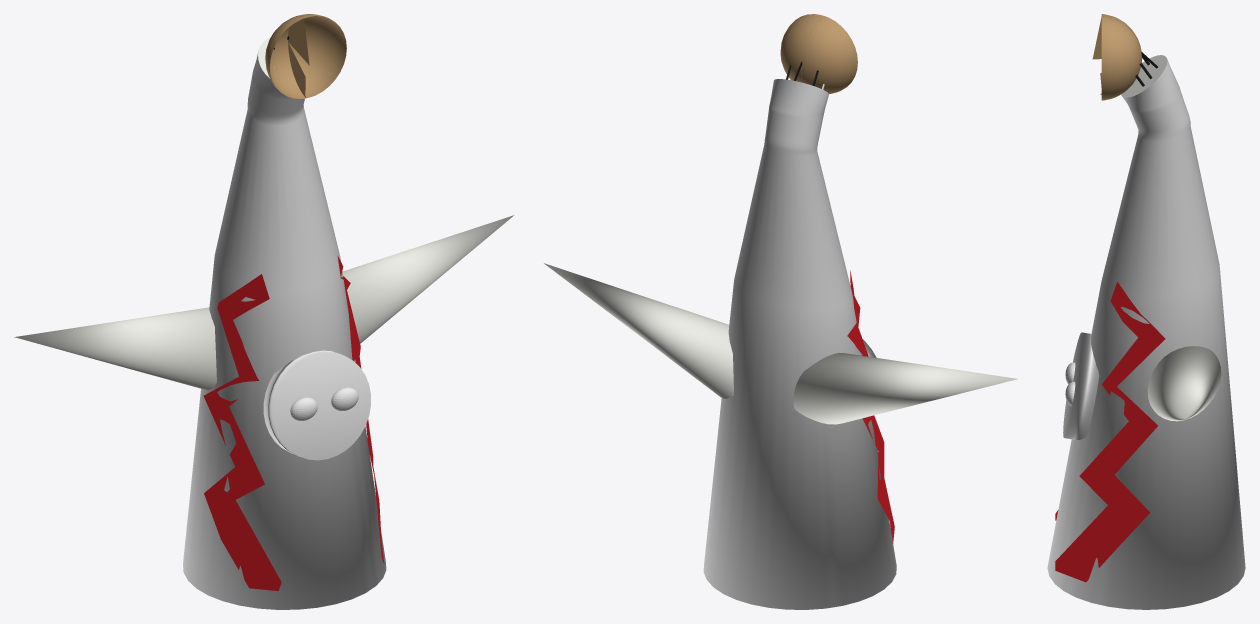
Rendered from 太陽の塔2.fbx.
The picture shows the model from 3 angles, left to right: view 1: azimuth 30°, elevation 25°; view 2: azimuth 150°, elevation 25°; view 3: azimuth 270°, elevation 25°; orthographic projection. The views are drawn at different scales.
Visible parts, largest first — view 1: 円錐.002, 円錐.001, 円柱, 平面.002, 円錐, 円.001, 平面.001; view 2: 円錐.002, 円錐.001, 円錐, 円.001, 平面.002; view 3: 円錐.002, 平面.001, 円錐, 円.001, 円柱, 円錐.003.
Part boxes in pixels (<box>): 円錐.002: <box>183,52,386,609</box>; 円錐.001: <box>14,307,216,390</box>; 円柱: <box>263,350,370,460</box>; 平面.002: <box>203,274,281,590</box>; 円錐: <box>342,215,514,343</box>; 円.001: <box>265,14,346,98</box>; 平面.001: <box>337,256,384,564</box>; 円錐.002: <box>703,79,896,609</box>; 円錐.001: <box>793,353,1017,424</box>; 円錐: <box>544,263,733,398</box>; 円.001: <box>780,14,857,94</box>; 平面.002: <box>847,270,894,543</box>; 円錐.002: <box>1047,60,1245,609</box>; 平面.001: <box>1055,282,1165,582</box>; 円錐: <box>1147,346,1221,421</box>; 円.001: <box>1101,14,1141,100</box>; 円柱: <box>1063,332,1099,439</box>; 円錐.003: <box>1121,55,1167,97</box>.
Bounding box in the file's own units: 682 × 737 × 241.
